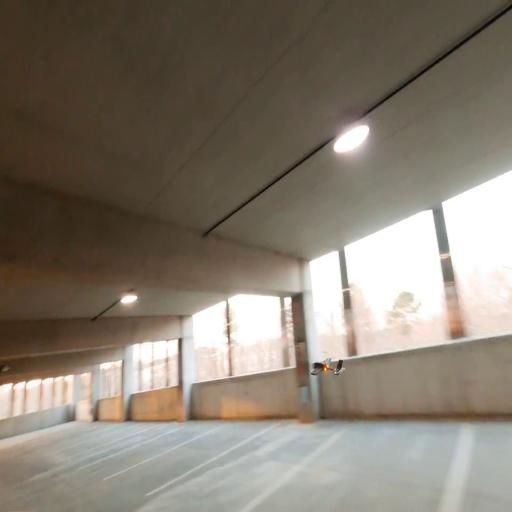uav: (307, 350, 349, 384)
